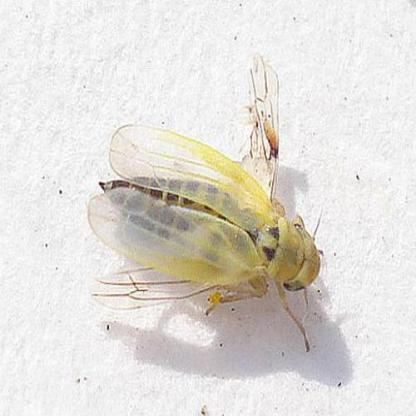green-leafhopper: (83, 113, 324, 322)
